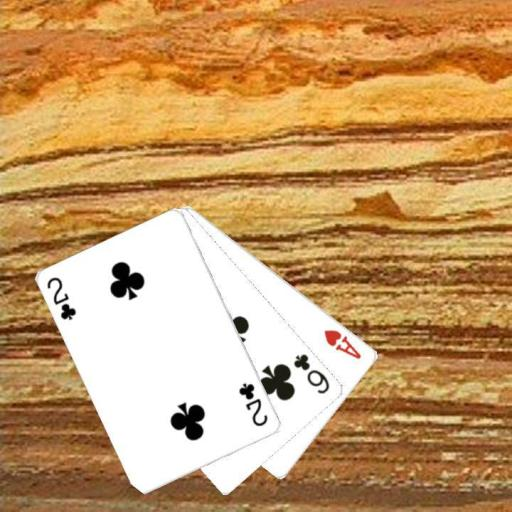2C: (236, 380, 271, 428), (44, 274, 78, 322)
6C: (291, 351, 332, 396)
AH: (321, 327, 363, 361)
